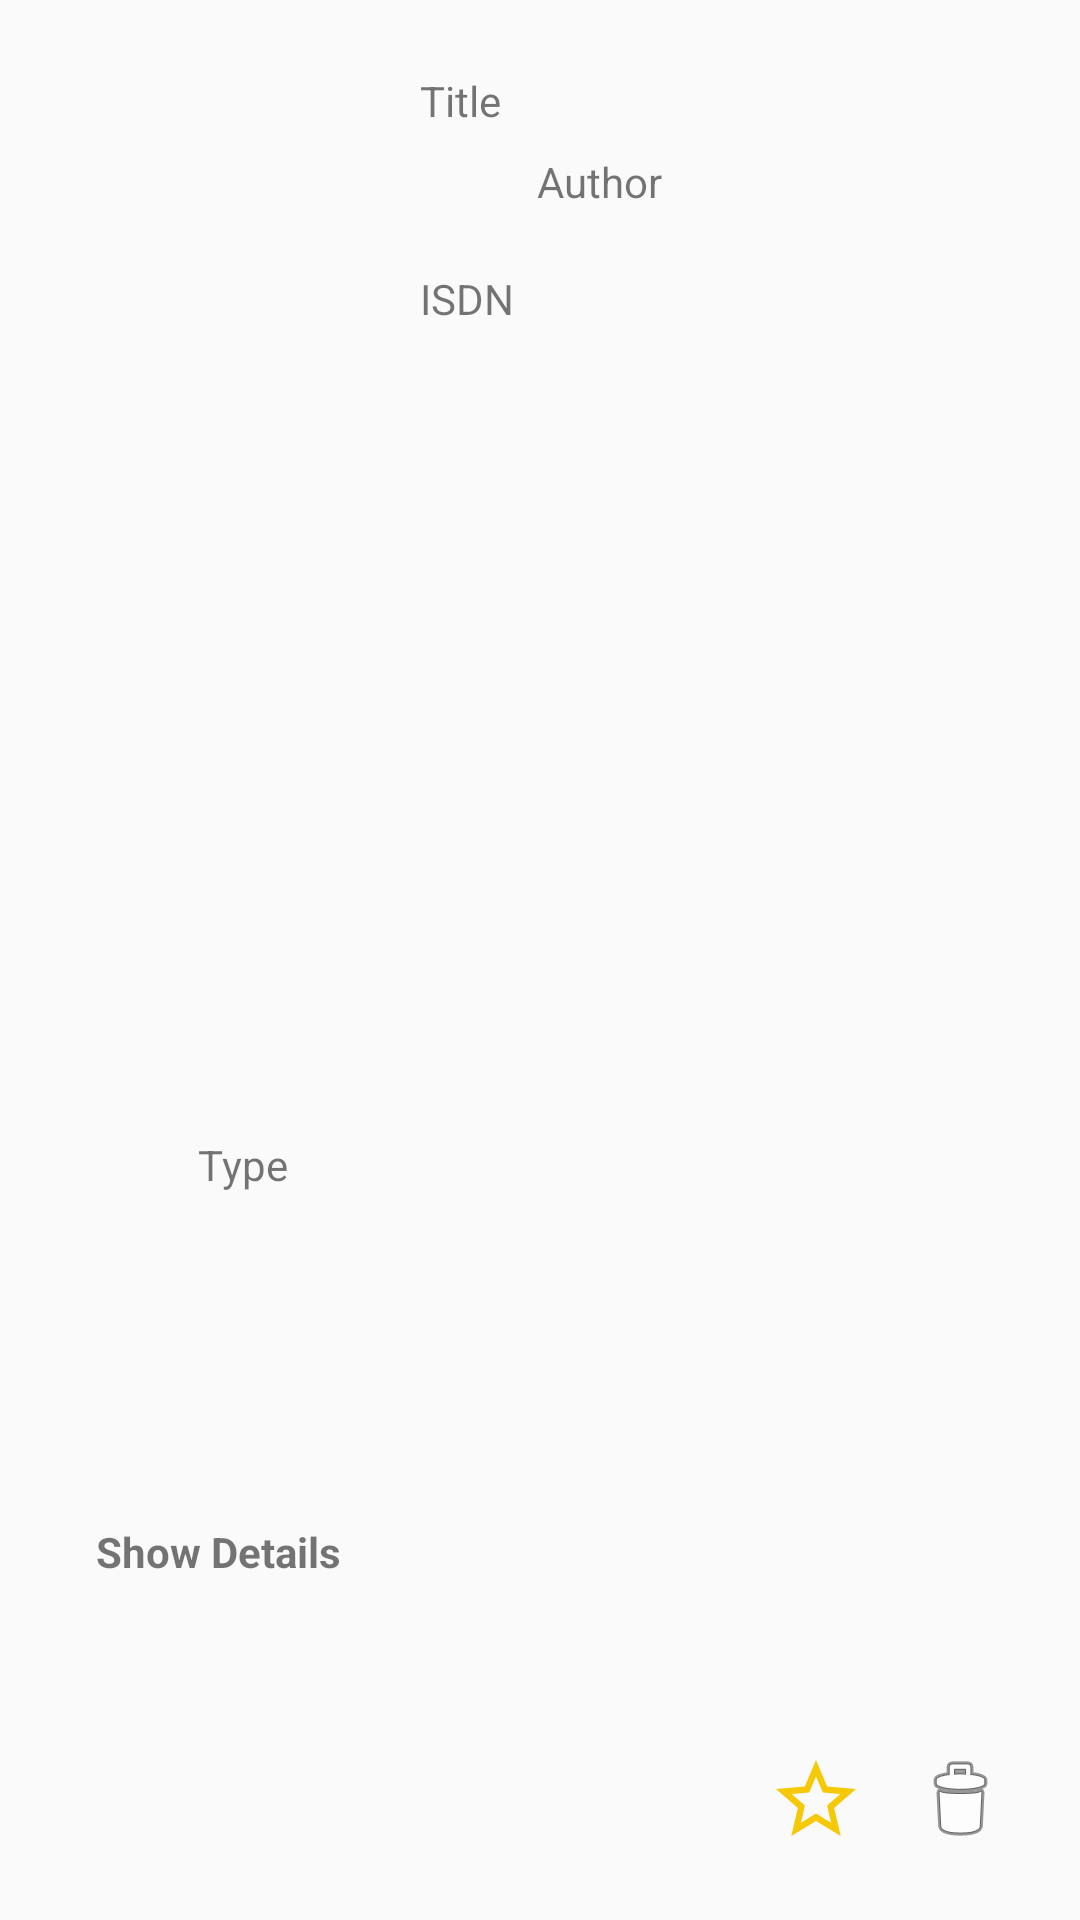

Screen size 1080px×1920px. Icon name, then its center in pixels as (x,y):
delete: (960,1798)
